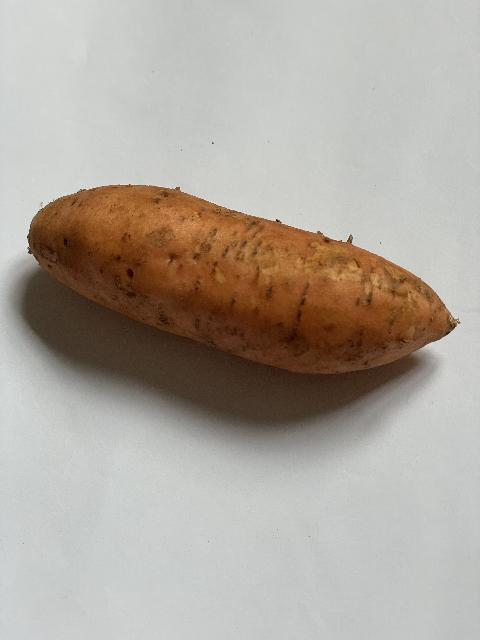sweetpotato: (25, 180, 459, 378)
